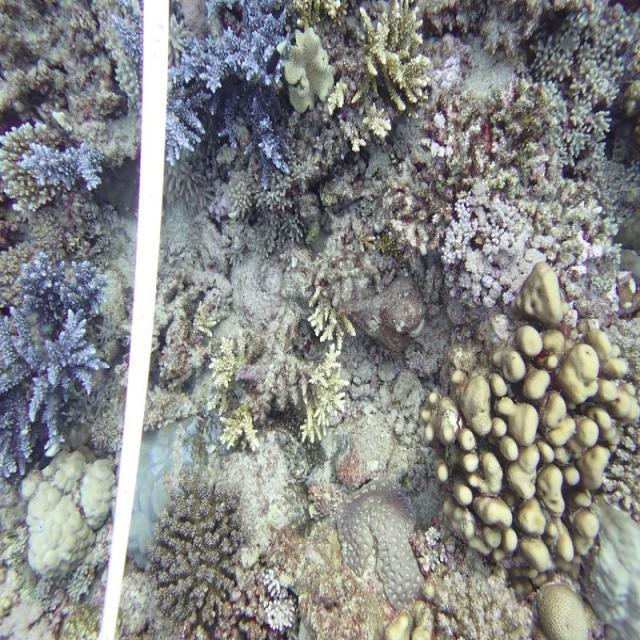Bleached Coral: (432, 184, 556, 319), (228, 562, 313, 640)
Healthy Coral: (435, 334, 620, 581), (0, 266, 108, 459), (169, 18, 285, 170), (19, 142, 108, 183)
